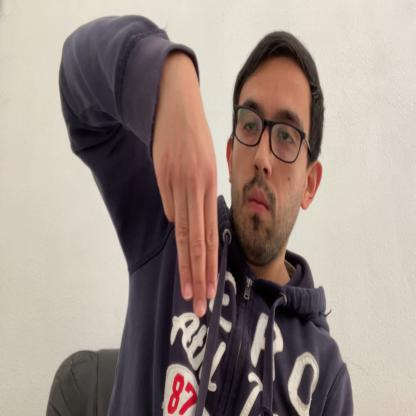M: (152, 89, 219, 321)
